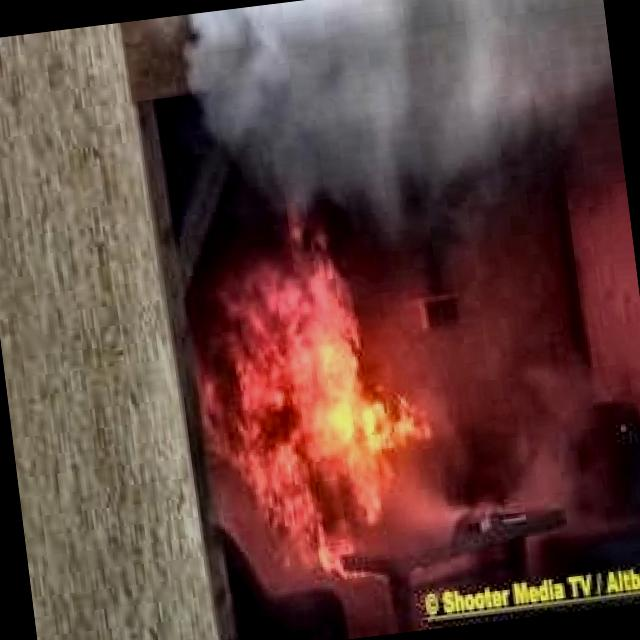fire: (164, 209, 511, 608)
smoke: (161, 0, 624, 227)
